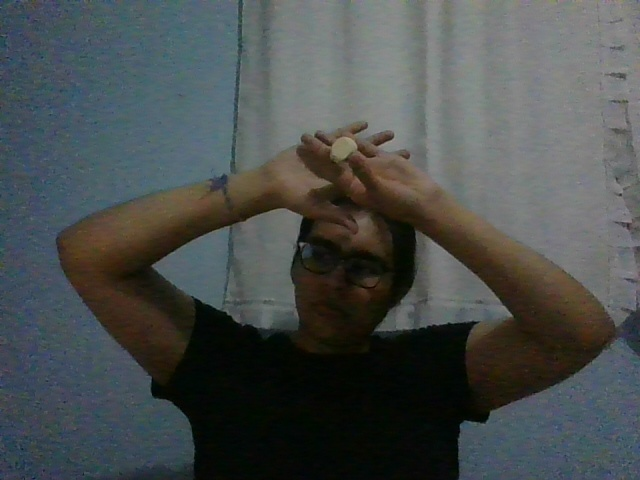goma: (329, 137, 357, 163)
